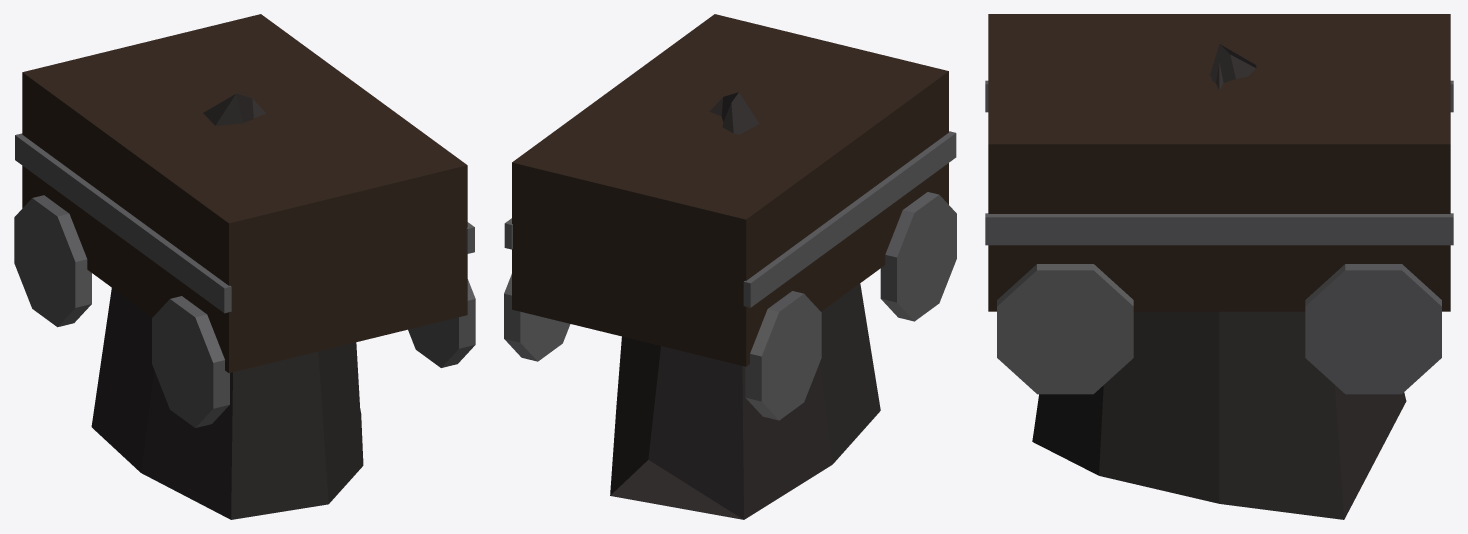
The model's file is walk_prop_ore_cart.glb.
3 renders of one model, left to right at view 1: azimuth 30°, elevation 25°; view 2: azimuth 150°, elevation 25°; view 3: azimuth 270°, elevation 25°, orthographic. The views are drawn at different scales.
Visible parts, largest first — view 1: walk_prop_ore_cart; view 2: walk_prop_ore_cart; view 3: walk_prop_ore_cart.
Boxes of the visible parts, x1,y1,x2,y2 form: walk_prop_ore_cart: (14, 14, 475, 519); walk_prop_ore_cart: (504, 14, 956, 519); walk_prop_ore_cart: (985, 14, 1453, 519).
Size of the model in its own units: 1.1 by 1.56 by 1.52.
2 materials, 2 textured.
